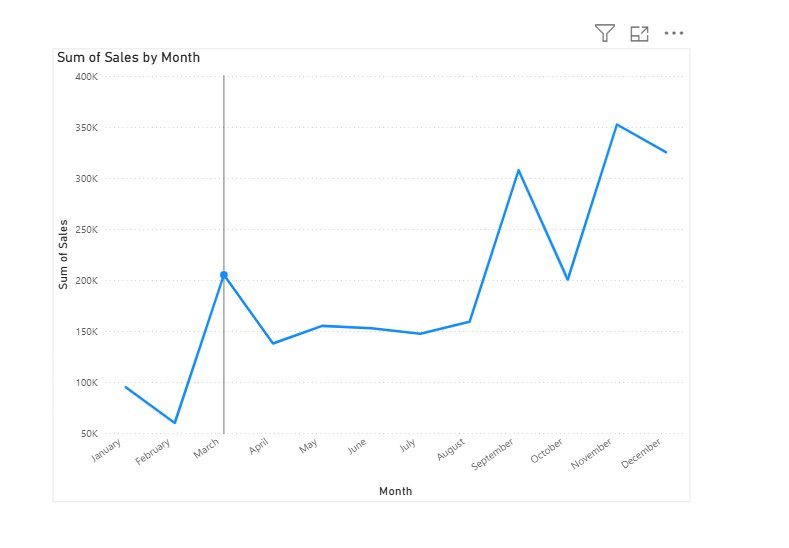

What the dashboard file says about the page in this screenshot:
{"tool":"powerbi","page":{"name":"Page 1","canvas":[1280,720],"ordinal":0},"visuals":[{"type":"lineChart","fields":{"Y":["Sum(Orders.Sales)"],"Category":["Orders.Order Date.Variation.Date Hierarchy.Month"]},"box":[205,90.6,757.5,539.2],"z":0}]}

Visuals, with their boxes on the page's 1280x720 design canvas (x1, y1, x2, y2). These are canvas units, not pixel positions in the 789x548 screenshot, which may show the page scaled, cropped or inside an application window:
lineChart - Sum(Orders.Sales) x Orders.Order Date.Variation.Date Hierarchy.Month: locate(205, 91, 962, 630)
